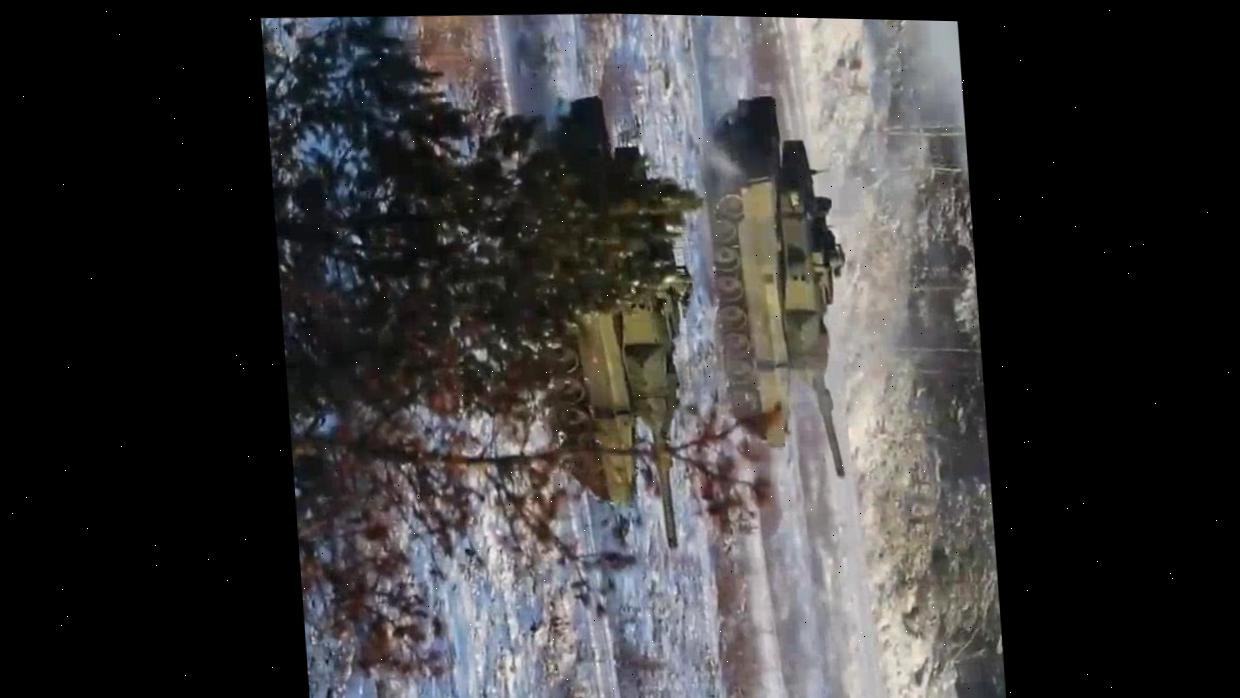tank: (512, 92, 711, 557), (694, 94, 865, 486)
